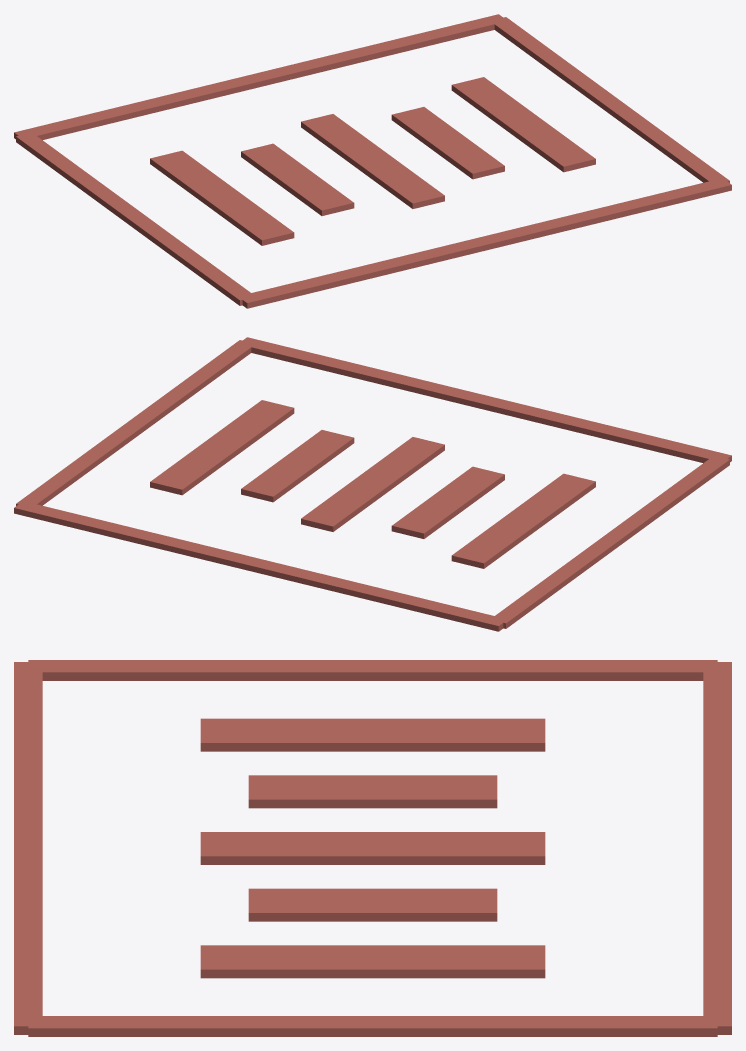
File: proof_mark.glb
3 renders of one model, top to bottom at view 1: azimuth 30°, elevation 25°; view 2: azimuth 150°, elevation 25°; view 3: azimuth 270°, elevation 25°, orthographic. The views are drawn at different scales.
Parts seen in each view (by area): view 1: Mark edge.003, Mark edge.002, Mark edge, Mark edge.001, Approval print, Approval print.004, Approval print.002, Approval print.001, Approval print.003; view 2: Mark edge.002, Mark edge.003, Mark edge, Mark edge.001, Approval print, Approval print.004, Approval print.002, Approval print.001, Approval print.003; view 3: Mark edge.001, Mark edge, Approval print, Approval print.004, Approval print.002, Mark edge.002, Mark edge.003, Approval print.001, Approval print.003.
Boxes of the visible parts, <box> form: Mark edge.003: <box>238,178,731,308</box>; Mark edge.002: <box>14,14,507,140</box>; Mark edge: <box>16,132,255,305</box>; Mark edge.001: <box>490,17,729,182</box>; Approval print: <box>150,150,294,245</box>; Approval print.004: <box>451,77,595,172</box>; Approval print.002: <box>301,114,444,208</box>; Approval print.001: <box>241,143,354,215</box>; Approval print.003: <box>391,107,504,179</box>; Mark edge.002: <box>14,501,507,631</box>; Mark edge.003: <box>239,337,731,463</box>; Mark edge: <box>490,455,729,628</box>; Mark edge.001: <box>16,340,254,505</box>; Approval print: <box>451,473,595,568</box>; Approval print.004: <box>150,400,294,495</box>; Approval print.002: <box>301,437,444,531</box>; Approval print.001: <box>391,466,504,538</box>; Approval print.003: <box>241,430,354,502</box>; Mark edge.001: <box>28,1016,717,1036</box>; Mark edge: <box>28,660,717,680</box>; Approval print: <box>200,718,545,751</box>; Approval print.004: <box>200,945,545,978</box>; Approval print.002: <box>200,832,545,864</box>; Mark edge.002: <box>703,662,731,1034</box>; Mark edge.003: <box>14,662,42,1034</box>; Approval print.001: <box>248,775,497,808</box>; Approval print.003: <box>248,888,497,921</box>.
Bounding box in the file's own units: 0.0455 × 0.0005 × 0.0375.
